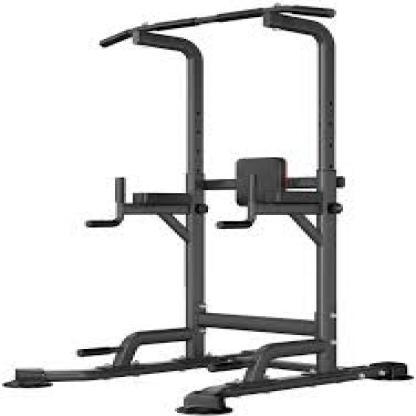chinning dipping: (0, 2, 412, 415)
